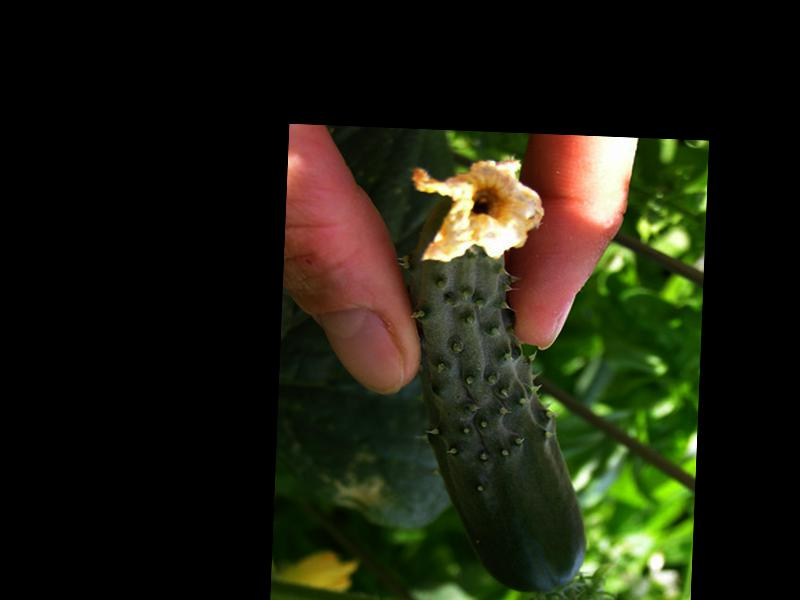Cucumber: (395, 156, 599, 596)
